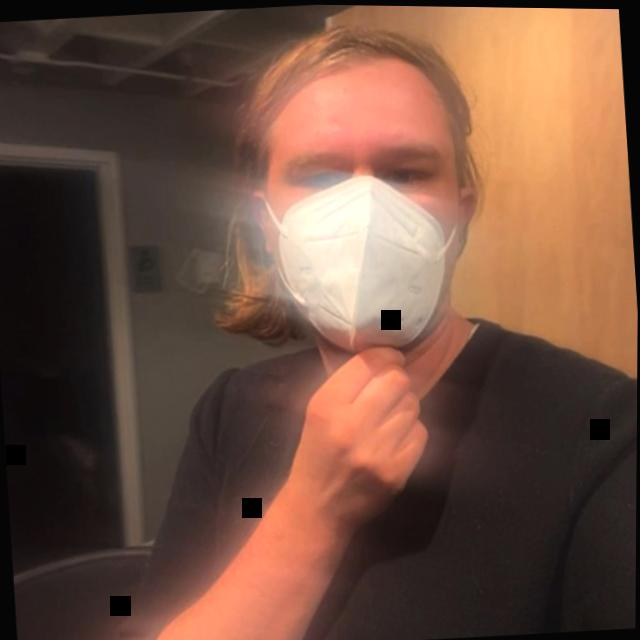Mask: (215, 13, 497, 366)
